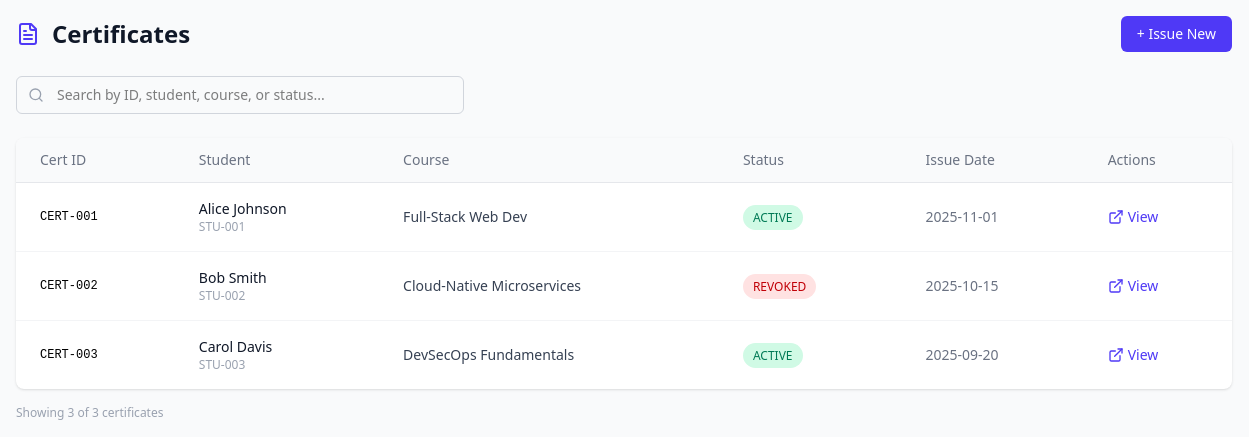
Scenario: CertificateList › shows no-match message when search has no results
expect the text "CERT-001" is shown: met, box [16,182,175,252]
Type "nonexistent" into the field with placeholder "Search by ID, student, course, or status..." at [240, 95], box [16,76,464,114]
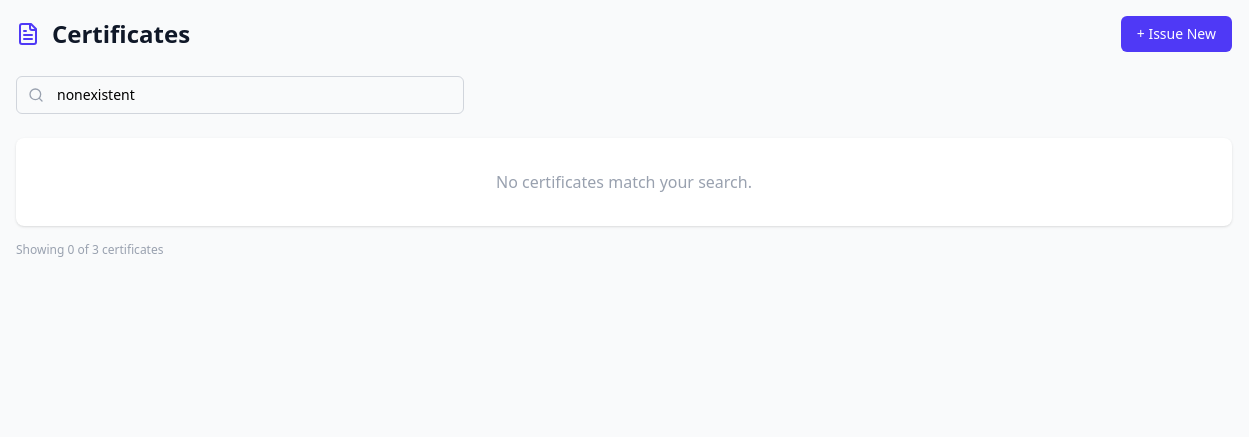
expect the text "No certificates match your search." is shown: met, box [496,171,752,193]
